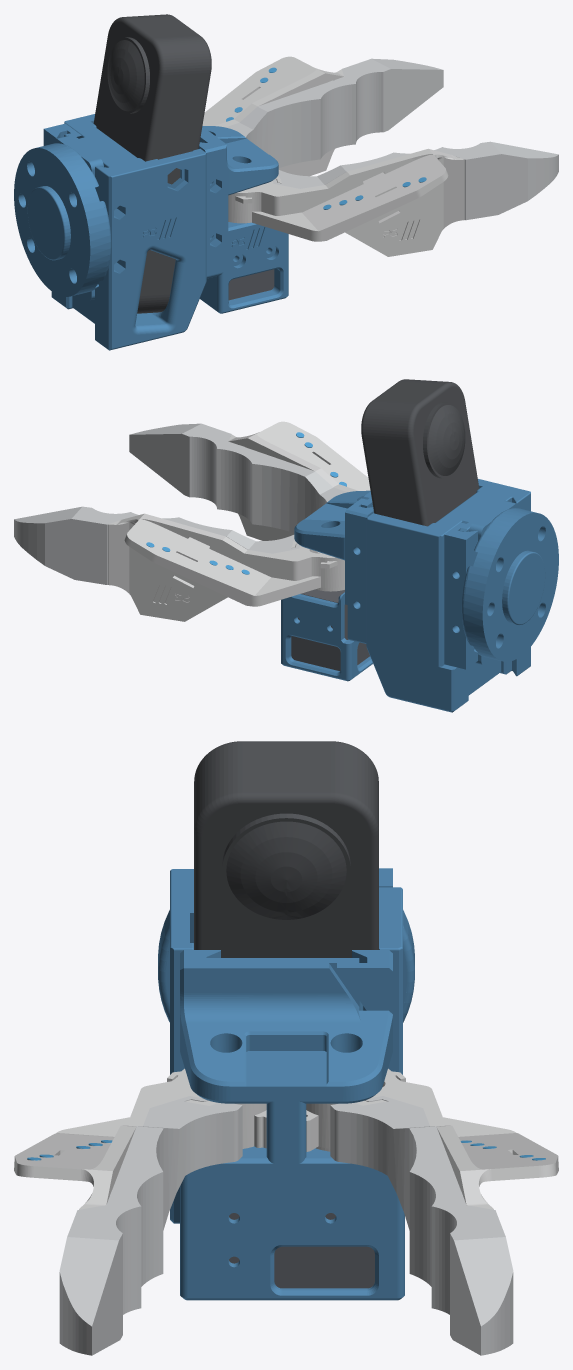
File: chop-umi_iso50.glb
3 views of the same model, one above another, from view 1: azimuth 30°, elevation 25°; view 2: azimuth 150°, elevation 25°; view 3: azimuth 270°, elevation 25° (orthographic). The views are drawn at different scales.
Parts seen in each view (by area): view 1: x5_frame, insta360_x5_envelope, jaw_right, tip_tpu_left, iso_flange_plate, chopstick_base_sa, tip_tpu_right, jaw_left_sa, servo_envelope, x5_clip_b; view 2: x5_frame, jaw_left_sa, insta360_x5_envelope, tip_tpu_right, iso_flange_plate, chopstick_base_sa, tip_tpu_left, jaw_right, x5_clip_b, chopstick_clip_sa, servo_envelope; view 3: chopstick_base_sa, insta360_x5_envelope, tip_tpu_left, tip_tpu_right, jaw_left_sa, jaw_right, x5_frame, servo_envelope, chopstick_clip_sa, iso_flange_plate.
Boxes of the visible parts, <box> form: x5_frame: <box>51,114,206,350</box>; insta360_x5_envelope: <box>93,14,211,313</box>; jaw_right: <box>228,148,464,256</box>; tip_tpu_left: <box>225,58,443,167</box>; iso_flange_plate: <box>14,135,111,300</box>; chopstick_base_sa: <box>198,126,288,313</box>; tip_tpu_right: <box>273,141,558,220</box>; jaw_left_sa: <box>202,56,344,176</box>; servo_envelope: <box>228,269,274,300</box>; x5_clip_b: <box>43,123,81,145</box>; x5_frame: <box>366,479,530,712</box>; jaw_left_sa: <box>108,513,344,621</box>; insta360_x5_envelope: <box>361,379,479,526</box>; tip_tpu_right: <box>129,423,346,532</box>; iso_flange_plate: <box>461,500,558,665</box>; chopstick_base_sa: <box>281,490,372,681</box>; tip_tpu_left: <box>14,506,300,584</box>; jaw_right: <box>228,421,370,540</box>; x5_clip_b: <box>444,522,477,669</box>; chopstick_clip_sa: <box>345,498,373,643</box>; servo_envelope: <box>291,589,369,670</box>; chopstick_base_sa: <box>180,950,404,1300</box>; insta360_x5_envelope: <box>194,741,378,957</box>; tip_tpu_left: <box>330,1096,513,1355</box>; tip_tpu_right: <box>59,1096,242,1355</box>; jaw_left_sa: <box>306,1068,558,1209</box>; jaw_right: <box>14,1068,266,1209</box>; x5_frame: <box>170,869,402,1223</box>; servo_envelope: <box>229,1213,374,1288</box>; chopstick_clip_sa: <box>337,950,392,1071</box>; iso_flange_plate: <box>158,910,414,1022</box>.
Size of the model in its own units: 0.2205 by 0.1302 by 0.1357.
